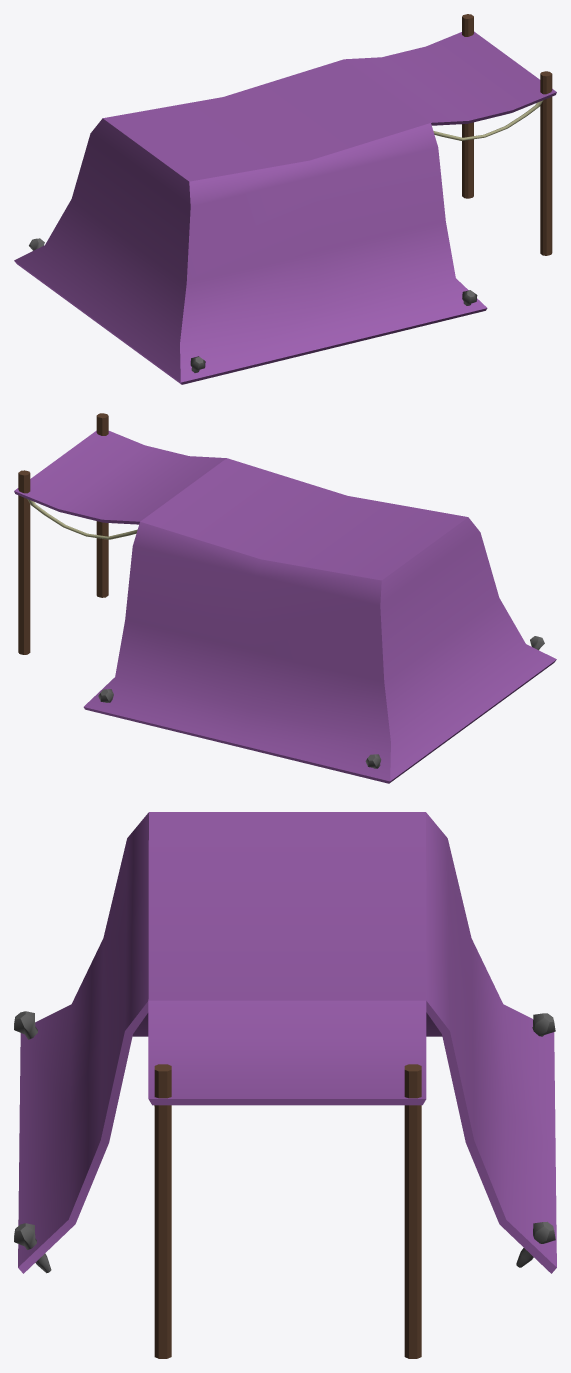
Rendered from Tent_Small_open.fbx.
3 views of the same model, one above another, from view 1: azimuth 30°, elevation 25°; view 2: azimuth 150°, elevation 25°; view 3: azimuth 270°, elevation 25° (orthographic). The views are drawn at different scales.
Visible parts, largest first — view 1: Tent_Small_open; view 2: Tent_Small_open; view 3: Tent_Small_open.
Boxes of the visible parts, x1,y1,x2,y2 form: Tent_Small_open: [14, 14, 556, 384]; Tent_Small_open: [14, 413, 556, 783]; Tent_Small_open: [14, 812, 556, 1358].
Bounding box in the file's own units: 5.22 × 2.24 × 3.69.
